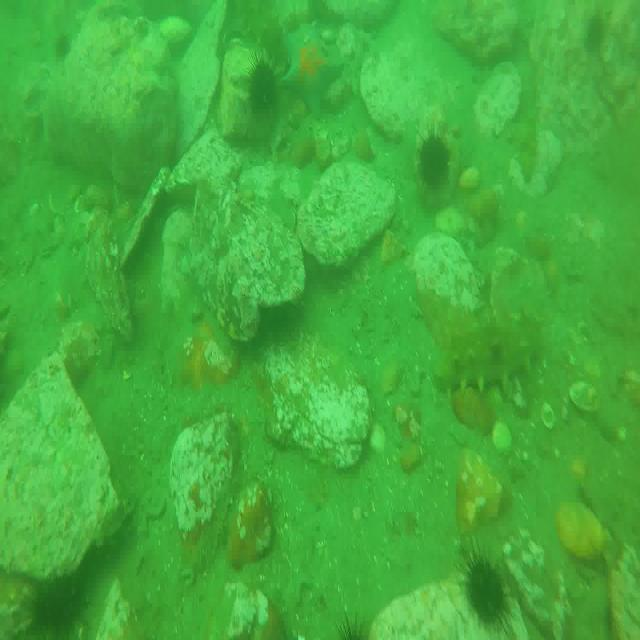echinus: (462, 548, 508, 626), (30, 572, 81, 640), (418, 124, 451, 188), (248, 61, 279, 124), (588, 12, 606, 57)
holothurian: (435, 315, 542, 394)
starfish: (282, 27, 346, 114)
